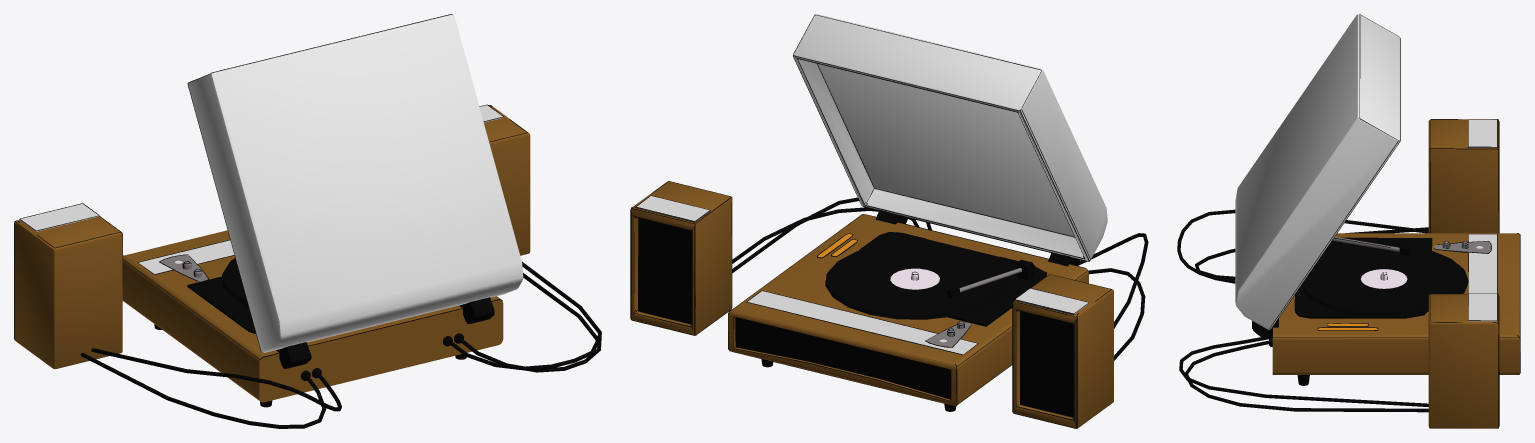
The model's file is Fighter (2).fbx.
3 renders of one model, left to right at view 1: azimuth 30°, elevation 25°; view 2: azimuth 150°, elevation 25°; view 3: azimuth 270°, elevation 25°, orthographic. The views are drawn at different scales.
Parts seen in each view (by area): view 1: Cube.027, Cube.001, Cube.019, Cube.018, LineArt.001, NurbsPath.003, NurbsPath.002, NurbsPath.001, Plane.002, NurbsPath, Plane.001, Cube.021; view 2: Cube.027, Cube.001, Cube.018, Cube.019, Cube.021, LineArt.001, Plane.001, Plane.003, Plane.002, NurbsPath.003, NurbsPath.001, NurbsPath (+1 smaller); view 3: Cube.027, Cube.001, Cube.021, Cube.018, Cube.019, LineArt.001, NurbsPath.001, Plane.001, NurbsPath, NurbsPath.003, Plane.003, Plane.002 (+1 smaller).
Boxes of the visible parts, x1,y1,x2,y2 form: Cube.027: (187, 14, 523, 360); Cube.001: (122, 230, 503, 407); Cube.019: (14, 216, 122, 369); Cube.018: (484, 105, 530, 255); LineArt.001: (14, 104, 527, 359); NurbsPath.003: (91, 348, 341, 411); NurbsPath.002: (80, 352, 326, 428); NurbsPath.001: (448, 273, 599, 370); Plane.002: (20, 203, 98, 231); NurbsPath: (458, 261, 601, 372); Plane.001: (139, 240, 234, 274); Cube.021: (222, 258, 248, 306); Cube.027: (793, 14, 1107, 266); Cube.001: (728, 211, 1088, 411); Cube.018: (631, 181, 731, 335); Cube.019: (1013, 274, 1113, 428); Cube.021: (825, 242, 1004, 319); LineArt.001: (630, 181, 1111, 428); Plane.001: (747, 291, 977, 354); Plane.003: (636, 196, 709, 221); Plane.002: (1015, 288, 1089, 314); NurbsPath.003: (1078, 233, 1148, 328); NurbsPath.001: (732, 197, 931, 272); NurbsPath: (732, 207, 919, 263); Cube.027: (1235, 14, 1400, 329); Cube.001: (1252, 233, 1520, 385); Cube.021: (1301, 244, 1468, 317); Cube.018: (1428, 294, 1499, 428); Cube.019: (1428, 119, 1499, 233); LineArt.001: (1272, 119, 1520, 428); NurbsPath.001: (1179, 337, 1428, 406); Plane.001: (1468, 234, 1496, 292); NurbsPath: (1185, 340, 1428, 412); NurbsPath.003: (1177, 209, 1428, 283); Plane.003: (1468, 293, 1496, 321); Plane.002: (1468, 120, 1496, 147).
Size of the model in its own units: 1370 by 863 by 972.
